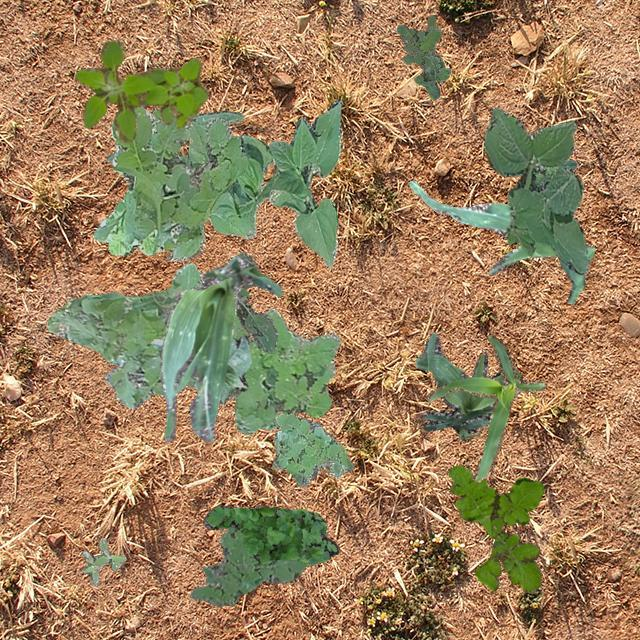crop: (166, 98, 342, 266), (408, 178, 594, 302), (158, 254, 280, 442), (424, 334, 546, 482), (414, 332, 522, 440), (150, 334, 250, 404)
weed: (46, 262, 340, 434), (92, 104, 246, 254), (483, 108, 588, 274), (74, 38, 206, 142), (446, 464, 544, 592), (188, 504, 306, 606), (202, 504, 338, 564), (105, 109, 242, 168), (272, 410, 352, 486), (396, 13, 450, 98), (236, 252, 276, 352), (80, 536, 124, 586), (532, 158, 576, 186)
